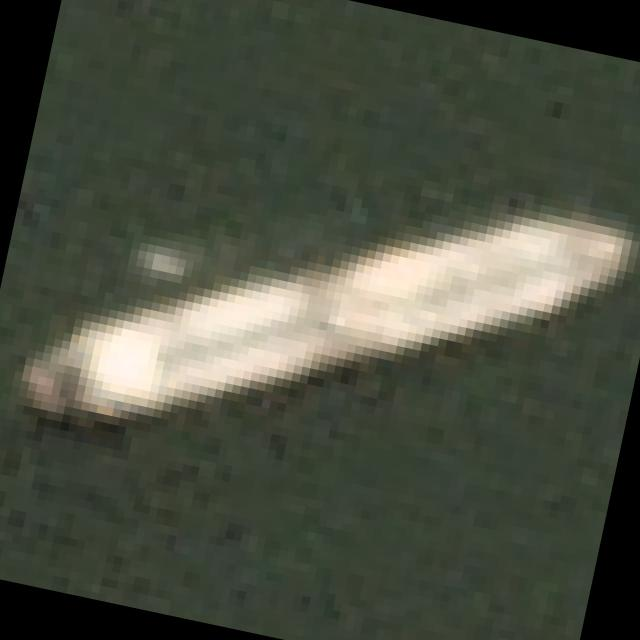ship: (6, 61, 640, 566)
